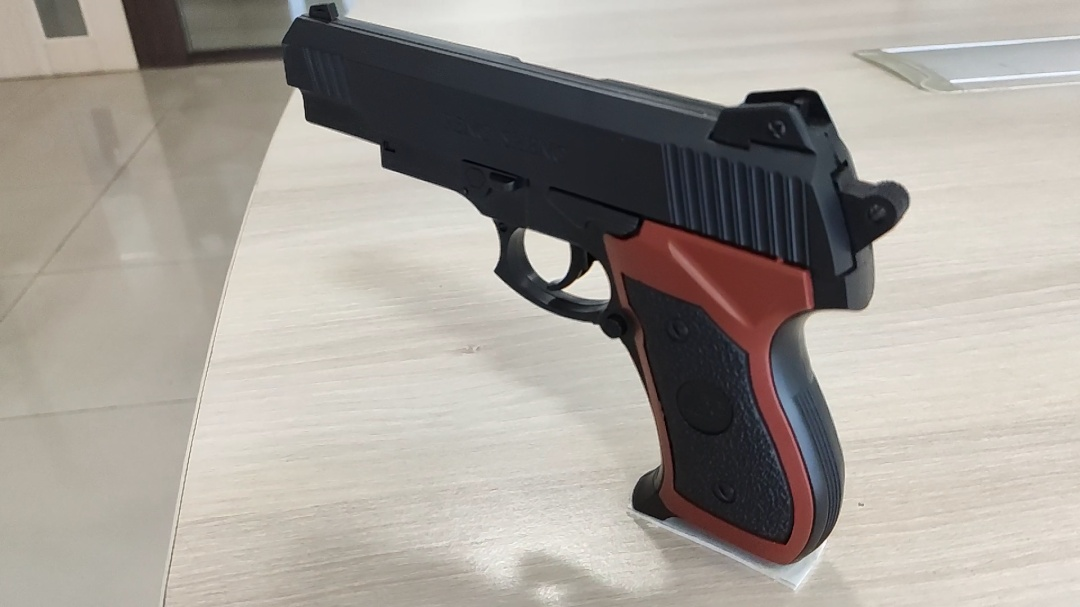gun: (352, 230, 403, 278)
